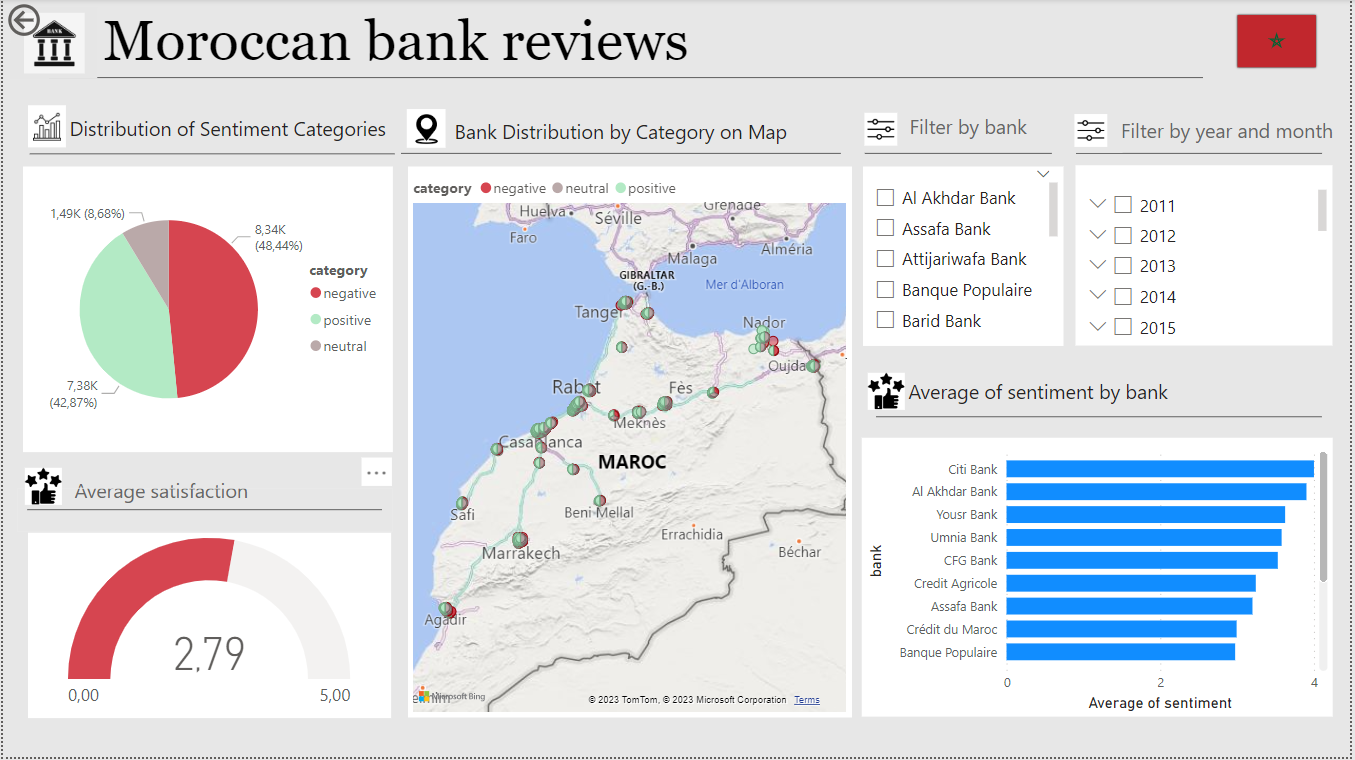

Layout of this report page (visuals, bound fields, positions):
{"tool":"powerbi","page":{"name":"Page 1","canvas":[1280,720],"ordinal":0},"visuals":[{"type":"textbox","box":[89.7,4.8,1172,75.2],"z":0},{"type":"basicShape","box":[35,55,1245,40],"z":1000},{"type":"textbox","box":[62.8,448.1,188.5,35.6],"z":3000},{"type":"basicShape","box":[13,464.7,356.8,41.5],"z":4000},{"type":"textbox","box":[423.8,107.5,381.2,35],"z":5000},{"type":"basicShape","box":[367.5,126.2,437.5,41.2],"z":6000},{"type":"basicShape","box":[808.8,126.2,197.5,41.2],"z":7000},{"type":"textbox","box":[58.1,105.5,322.4,35.6],"z":8000},{"type":"basicShape","box":[15.4,126.8,366.3,40.3],"z":9000},{"type":"image","box":[6.9,8.2,82.3,67.2],"z":14000},{"type":"pieChart","fields":{"Category":["public reviews.category"],"Y":["CountNonNull(public reviews.id_reviwe)"]},"box":[19,158.8,350.9,271.5],"z":15000},{"type":"gauge","fields":{"Y":["Avg(public reviews.sentiment)"],"MaxValue":["Max(public reviews.sentiment)1"]},"box":[23.3,506.3,344.4,175.6],"z":17000},{"type":"actionButton","box":[0,0,100,40],"z":18000},{"type":"enlightenWorldFlagsE887F52F76244B1C927F80CF9724AEF6","fields":{"code":["public bank.country"]},"box":[1140,0,140,80],"z":19000},{"type":"map","fields":{"Y":["public bank.lat"],"X":["public bank.lng"],"Series":["public reviews.category"]},"box":[384.2,159.2,421.3,522.8],"z":20000},{"type":"image","box":[803.8,103.8,60,41.2],"z":21000},{"type":"textbox","box":[856.2,103.8,150,35],"z":21001},{"type":"slicer","fields":{"Values":["public bank.bank"]},"box":[816.2,158.8,190,170],"z":21002},{"type":"slicer","fields":{"Values":["public date.year","public date.month"]},"box":[1018.8,157.5,243.8,171.2],"z":21003},{"type":"textbox","box":[1056.2,106.2,223.8,35],"z":21004},{"type":"basicShape","box":[1008.8,126.2,253.8,41.2],"z":21005},{"type":"image","box":[1002.5,105,60,41.2],"z":21006},{"type":"image","box":[378.8,100,46.2,46.2],"z":21007},{"type":"image","box":[5,440,66.2,45],"z":21008},{"type":"image","box":[23.8,101.2,36.2,40],"z":21009},{"type":"clusteredBarChart","fields":{"Category":["public bank.bank"],"Y":["Avg(public reviews.sentiment)"]},"box":[815.1,417.2,447.3,264.8],"z":21010},{"type":"textbox","box":[854.9,355.4,367.8,35.7],"z":21011},{"type":"image","box":[805.5,349.9,65.9,45.3],"z":21012},{"type":"basicShape","box":[819.2,376,443.2,41.2],"z":21013}]}

Visuals, with their boxes in screenshot pixels (x1, y1, x2, y2), scaled from the page's 1280x720 canvas onto the 1355x760 screenshot:
textbox: pyautogui.locateOnScreen(95, 5, 1336, 84)
basicShape: pyautogui.locateOnScreen(37, 58, 1354, 100)
textbox: pyautogui.locateOnScreen(66, 473, 266, 511)
basicShape: pyautogui.locateOnScreen(14, 491, 391, 534)
textbox: pyautogui.locateOnScreen(449, 113, 852, 150)
basicShape: pyautogui.locateOnScreen(389, 133, 852, 177)
basicShape: pyautogui.locateOnScreen(856, 133, 1065, 177)
textbox: pyautogui.locateOnScreen(62, 111, 403, 149)
basicShape: pyautogui.locateOnScreen(16, 134, 404, 176)
image: pyautogui.locateOnScreen(7, 9, 94, 80)
pieChart - public reviews.category x CountNonNull(public reviews.id_reviwe): pyautogui.locateOnScreen(20, 168, 392, 454)
gauge - Avg(public reviews.sentiment) x Max(public reviews.sentiment)1: pyautogui.locateOnScreen(25, 534, 389, 720)
actionButton: pyautogui.locateOnScreen(0, 0, 106, 42)
enlightenWorldFlagsE887F52F76244B1C927F80CF9724AEF6 - public bank.country: pyautogui.locateOnScreen(1207, 0, 1354, 84)
map - public bank.lat x public bank.lng: pyautogui.locateOnScreen(407, 168, 853, 720)
image: pyautogui.locateOnScreen(851, 110, 914, 153)
textbox: pyautogui.locateOnScreen(906, 110, 1065, 147)
slicer - public bank.bank: pyautogui.locateOnScreen(864, 168, 1065, 347)
slicer - public date.year x public date.month: pyautogui.locateOnScreen(1078, 166, 1337, 347)
textbox: pyautogui.locateOnScreen(1118, 112, 1354, 149)
basicShape: pyautogui.locateOnScreen(1068, 133, 1337, 177)
image: pyautogui.locateOnScreen(1061, 111, 1125, 154)
image: pyautogui.locateOnScreen(401, 106, 450, 154)
image: pyautogui.locateOnScreen(5, 464, 75, 512)
image: pyautogui.locateOnScreen(25, 107, 64, 149)
clusteredBarChart - public bank.bank x Avg(public reviews.sentiment): pyautogui.locateOnScreen(863, 440, 1336, 720)
textbox: pyautogui.locateOnScreen(905, 375, 1294, 413)
image: pyautogui.locateOnScreen(853, 369, 922, 417)
basicShape: pyautogui.locateOnScreen(867, 397, 1336, 440)
